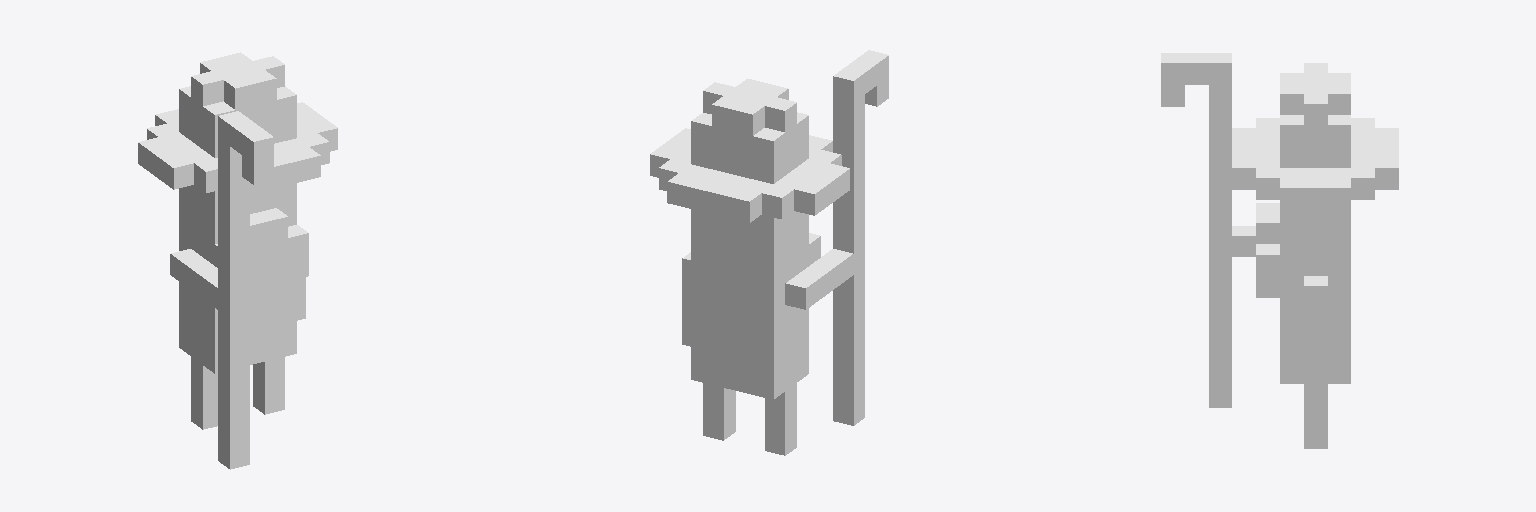
The model's file is farmer.obj.
3 views of the same model, side by side, from view 1: azimuth 30°, elevation 25°; view 2: azimuth 150°, elevation 25°; view 3: azimuth 270°, elevation 25° (orthographic).
Parts seen in each view (by area): view 1: object 1; view 2: object 1; view 3: object 1.
Boxes of the visible parts, <box> form: object 1: <box>138,52,337,469</box>; object 1: <box>650,50,888,455</box>; object 1: <box>1161,53,1398,448</box>.
Size of the model in its own units: 0.8 by 1.6 by 1.